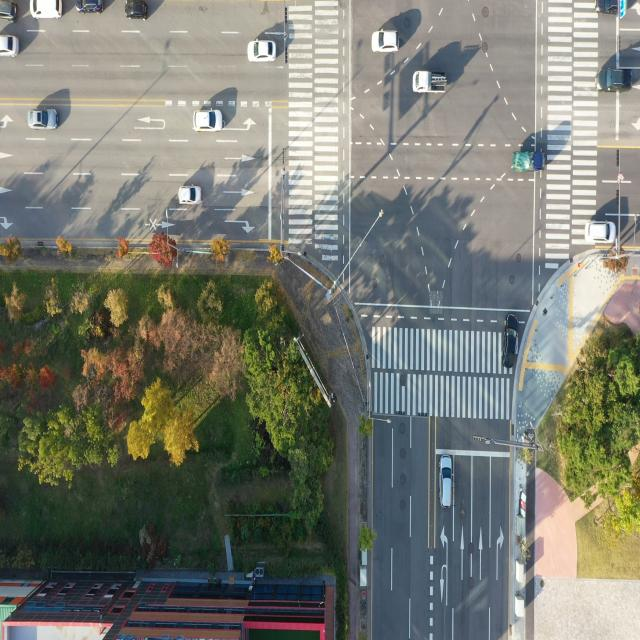car: (502, 316, 522, 370), (596, 68, 632, 93), (372, 26, 404, 54), (246, 37, 278, 65), (586, 221, 617, 248), (191, 110, 225, 134), (29, 0, 62, 23), (441, 456, 455, 510), (28, 108, 57, 131), (125, 0, 153, 21), (76, 0, 106, 17), (178, 185, 200, 205), (597, 0, 623, 16), (0, 0, 18, 23), (0, 35, 17, 59)
small_truck: (512, 146, 551, 177), (415, 70, 447, 93)
